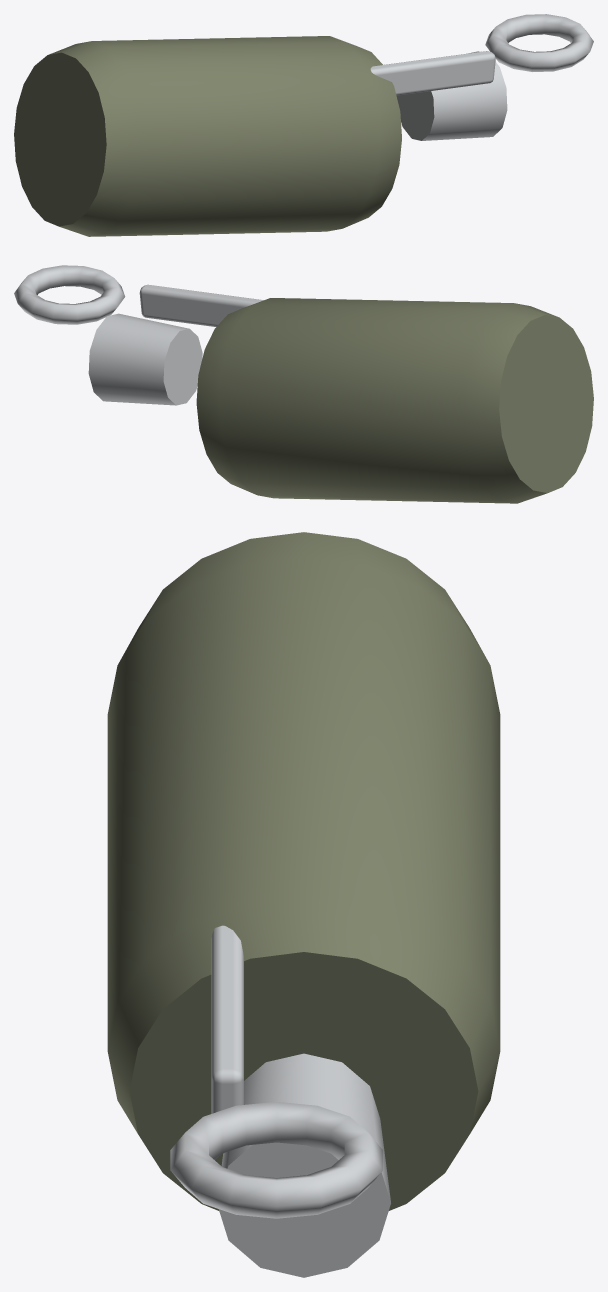
Rendered from battle-royale-town-and-airfield-smoke-grenade-077c9fce__28240.glb.
3 views of the same model, one above another, from view 1: azimuth 30°, elevation 25°; view 2: azimuth 150°, elevation 25°; view 3: azimuth 270°, elevation 25° (orthographic). The views are drawn at different scales.
Parts seen in each view (by area): view 1: smoke-grenade; view 2: smoke-grenade; view 3: smoke-grenade.
Boxes of the visible parts, left/top/right/bottom form: smoke-grenade: left=14, top=14, right=593, bottom=236; smoke-grenade: left=14, top=265, right=593, bottom=503; smoke-grenade: left=107, top=532, right=500, bottom=1277.
Bounding box in the file's own units: 0.2269 × 0.0918 × 0.072.
